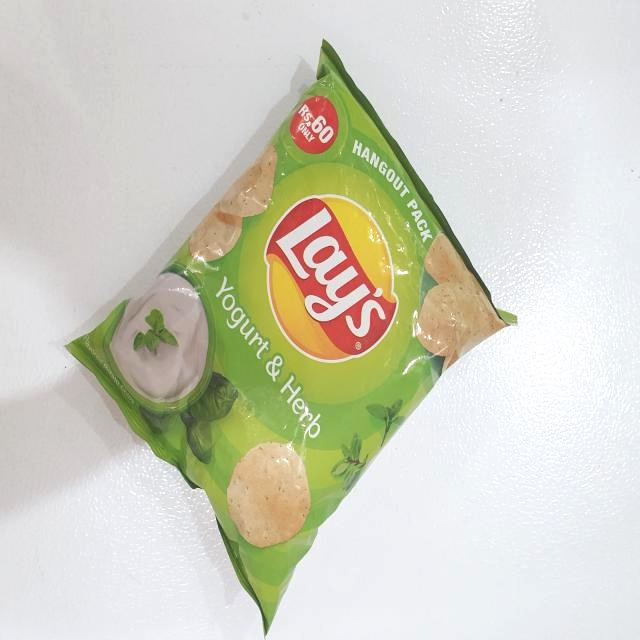lays-large: (95, 76, 488, 587)
